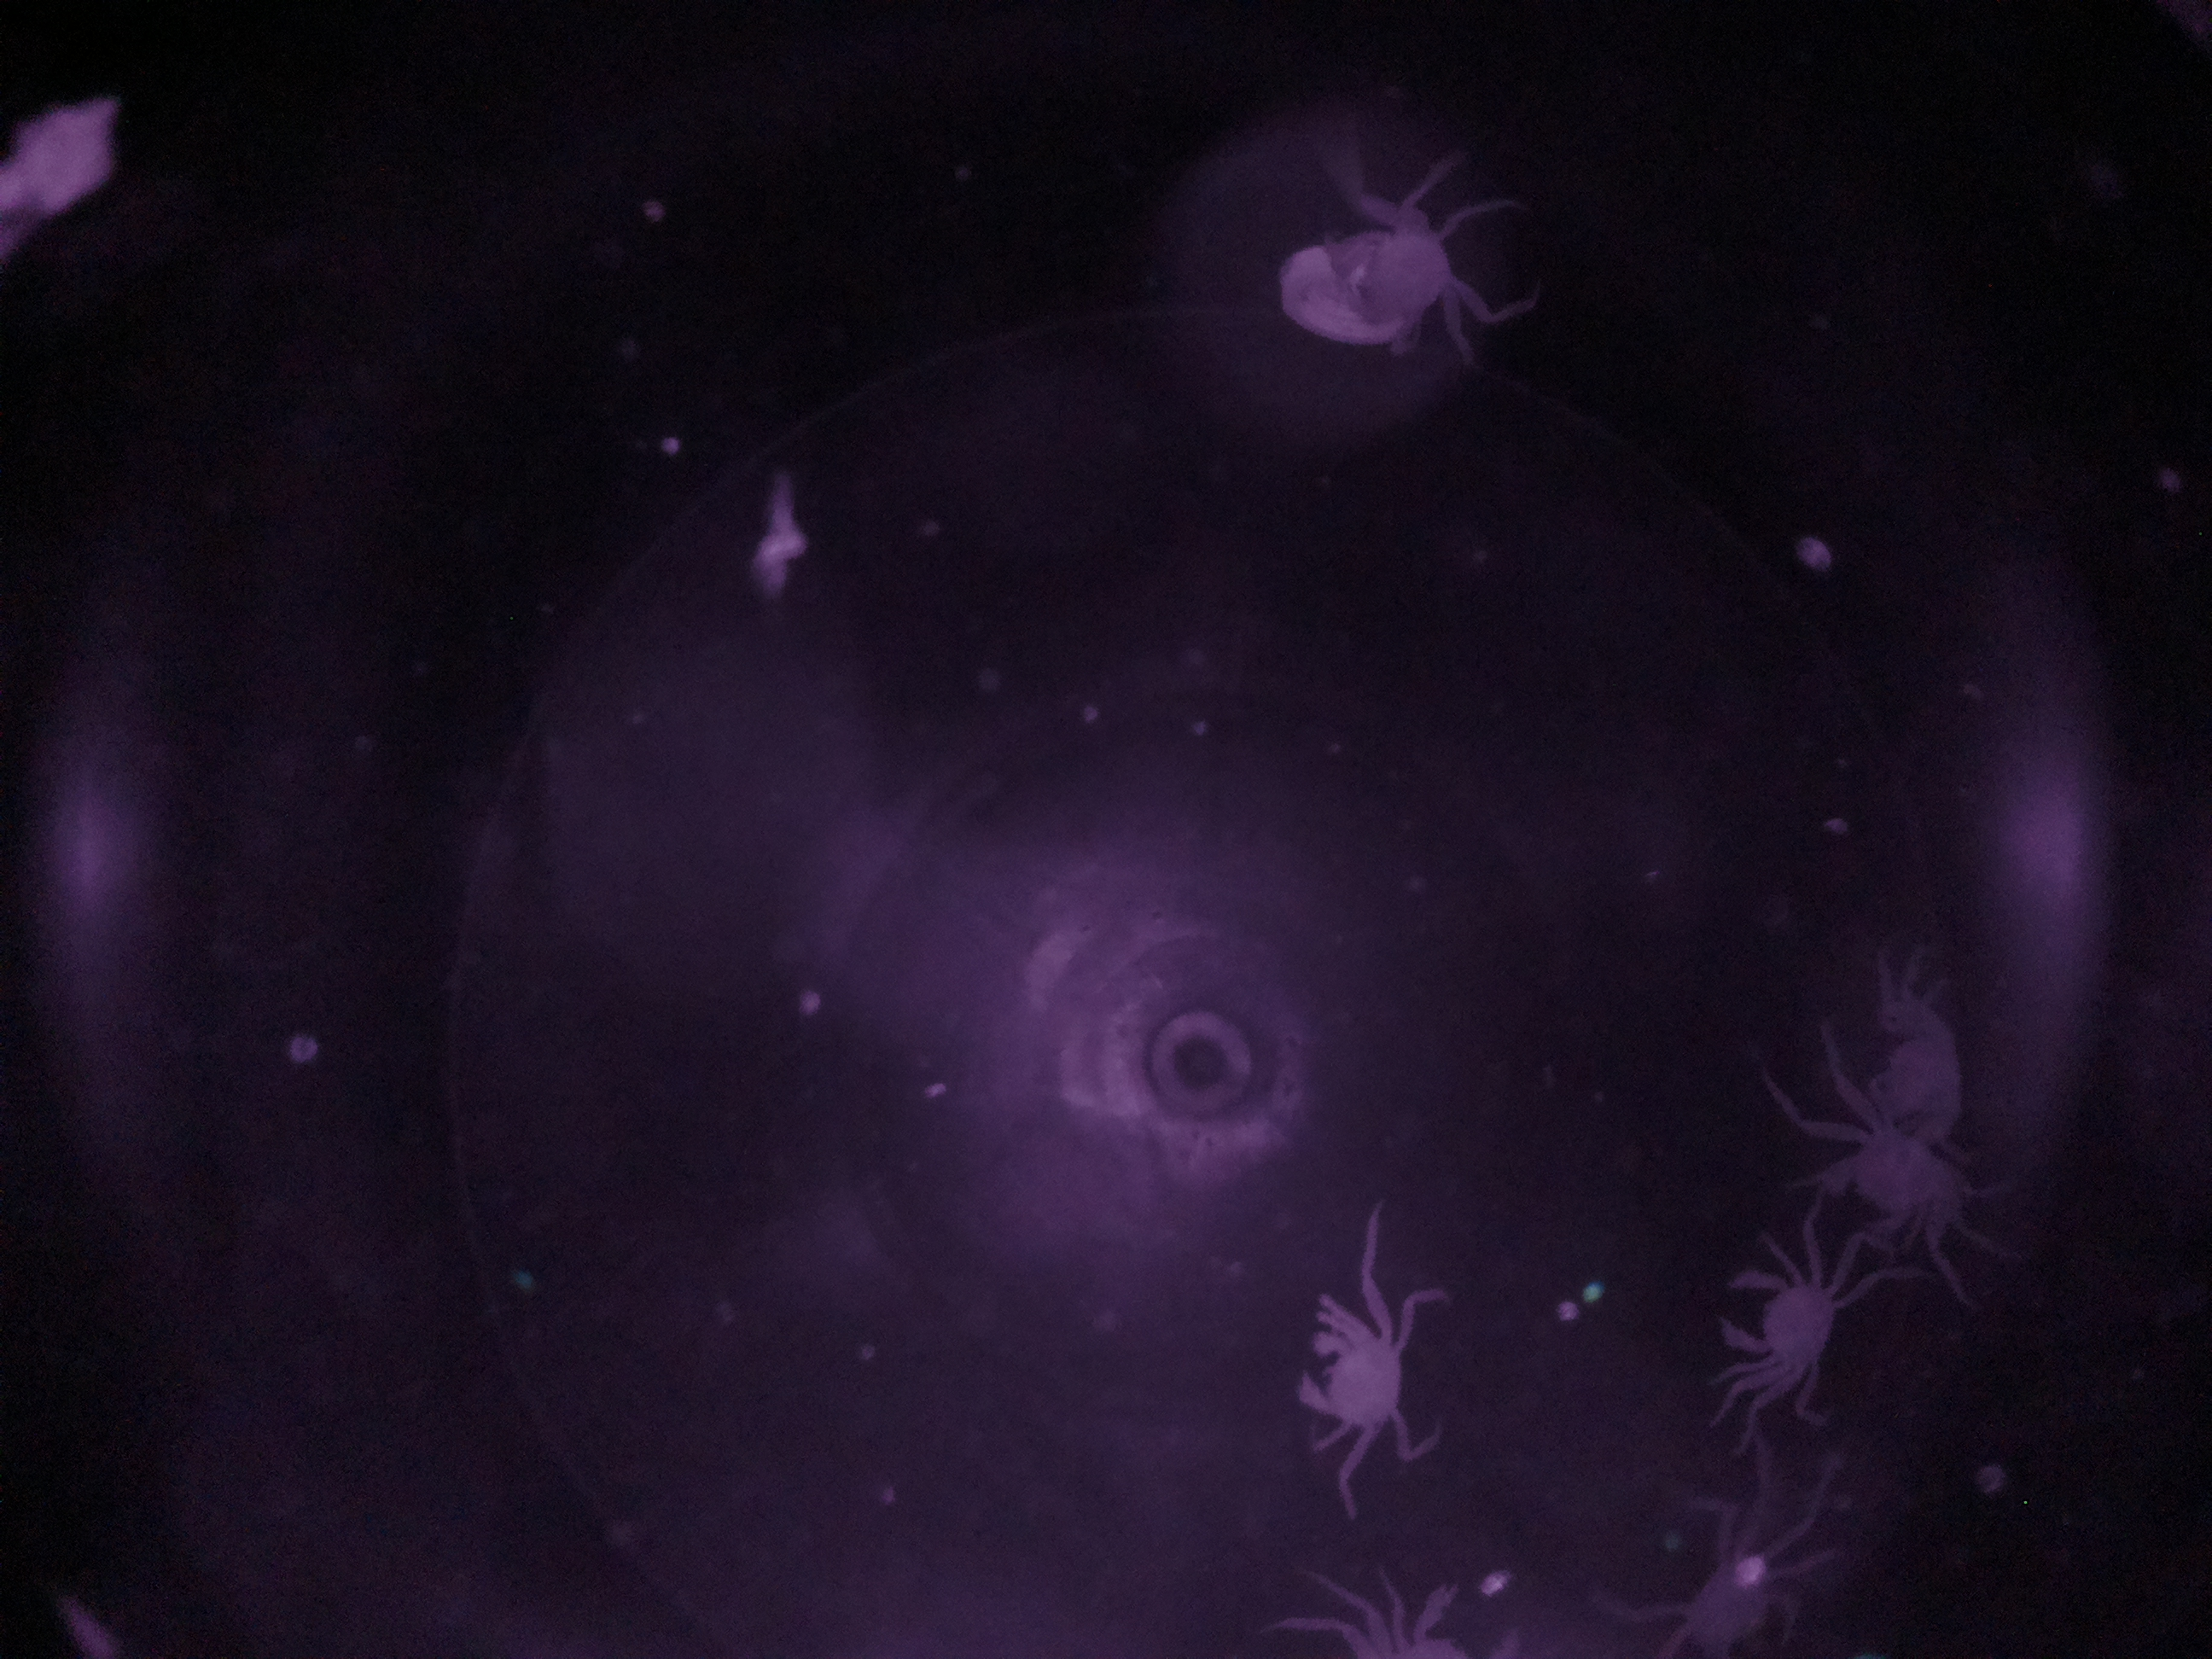Crab: (1709, 1223, 1865, 1417), (1287, 1263, 1425, 1483)
